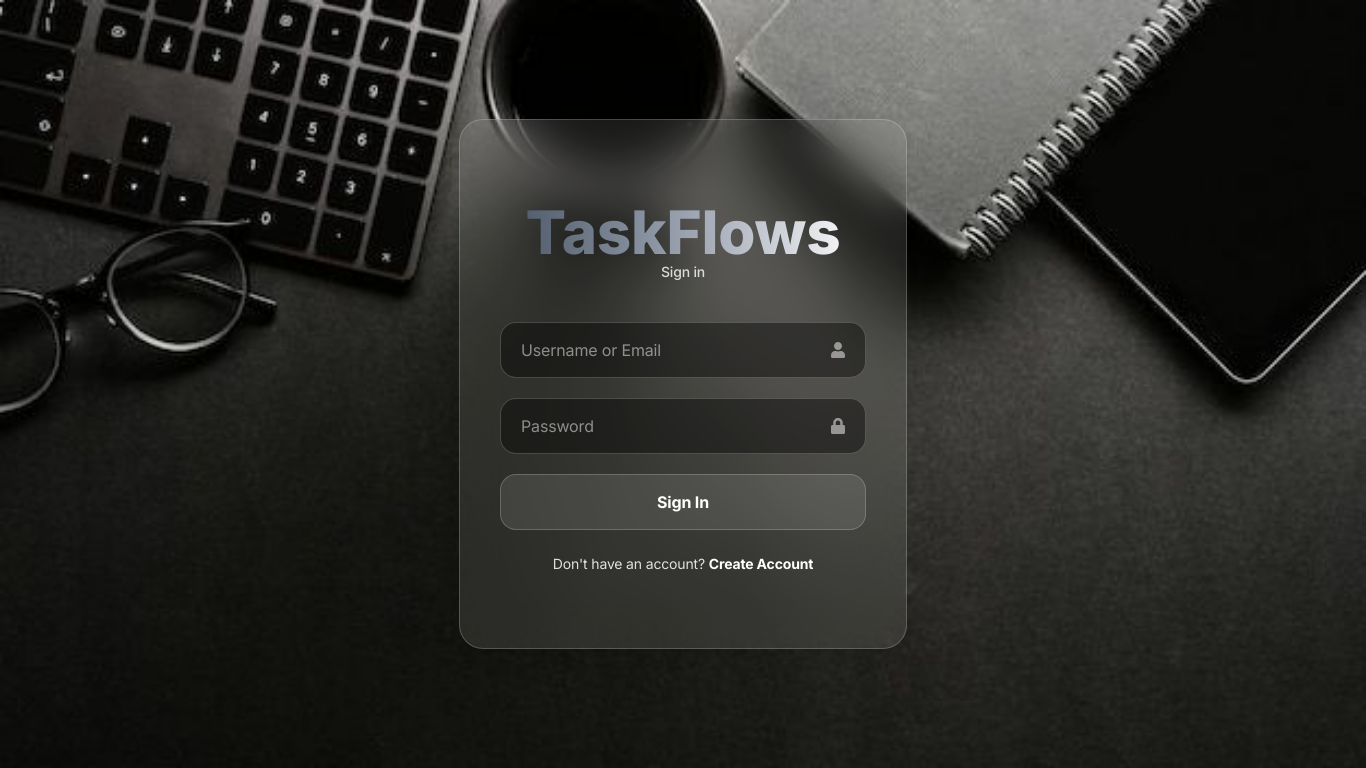
Test: LoginRegister Component (TFT-6) › switches to register mode when link is clicked
Trigger mode switch
Click the button "Create Account".
click(761, 564)  # box [709,554,813,574]
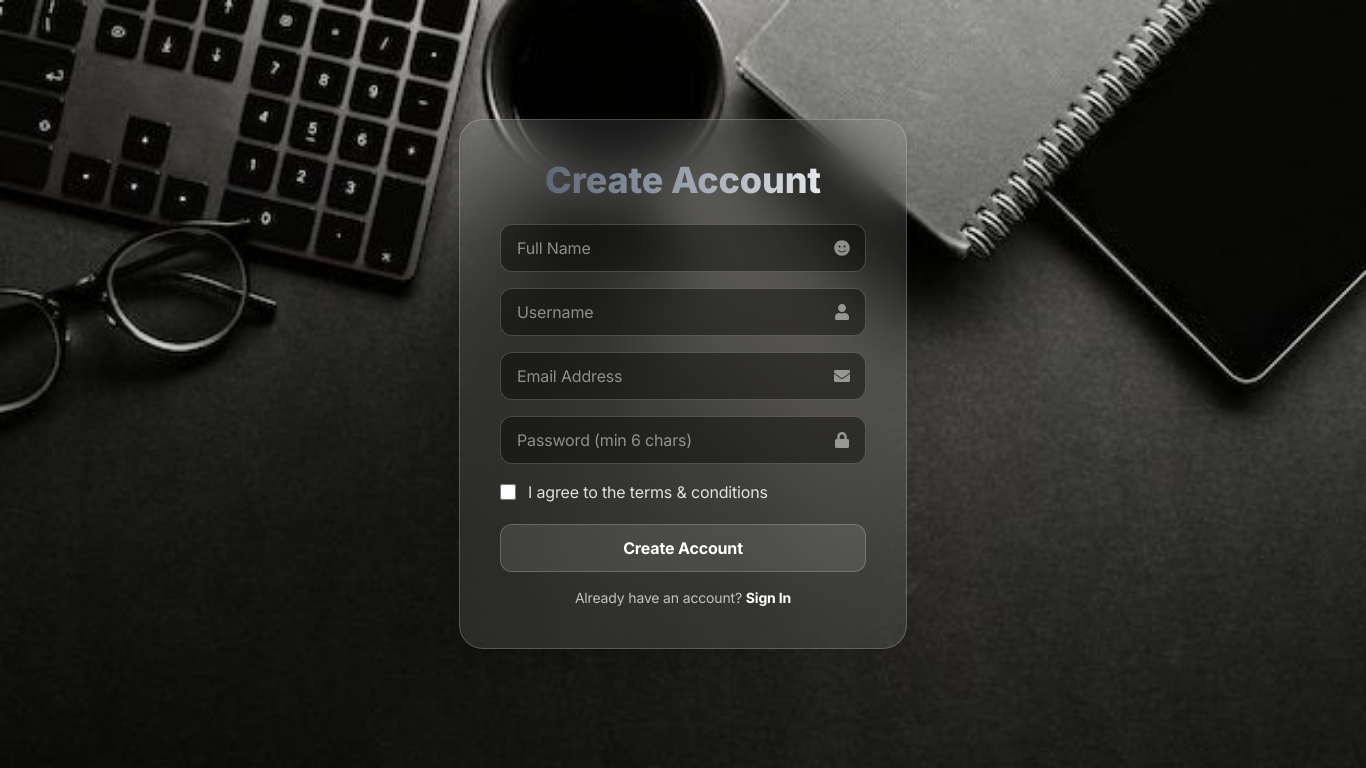
Expected: the field with placeholder "Full Name" is shown, [500,224,866,272]
